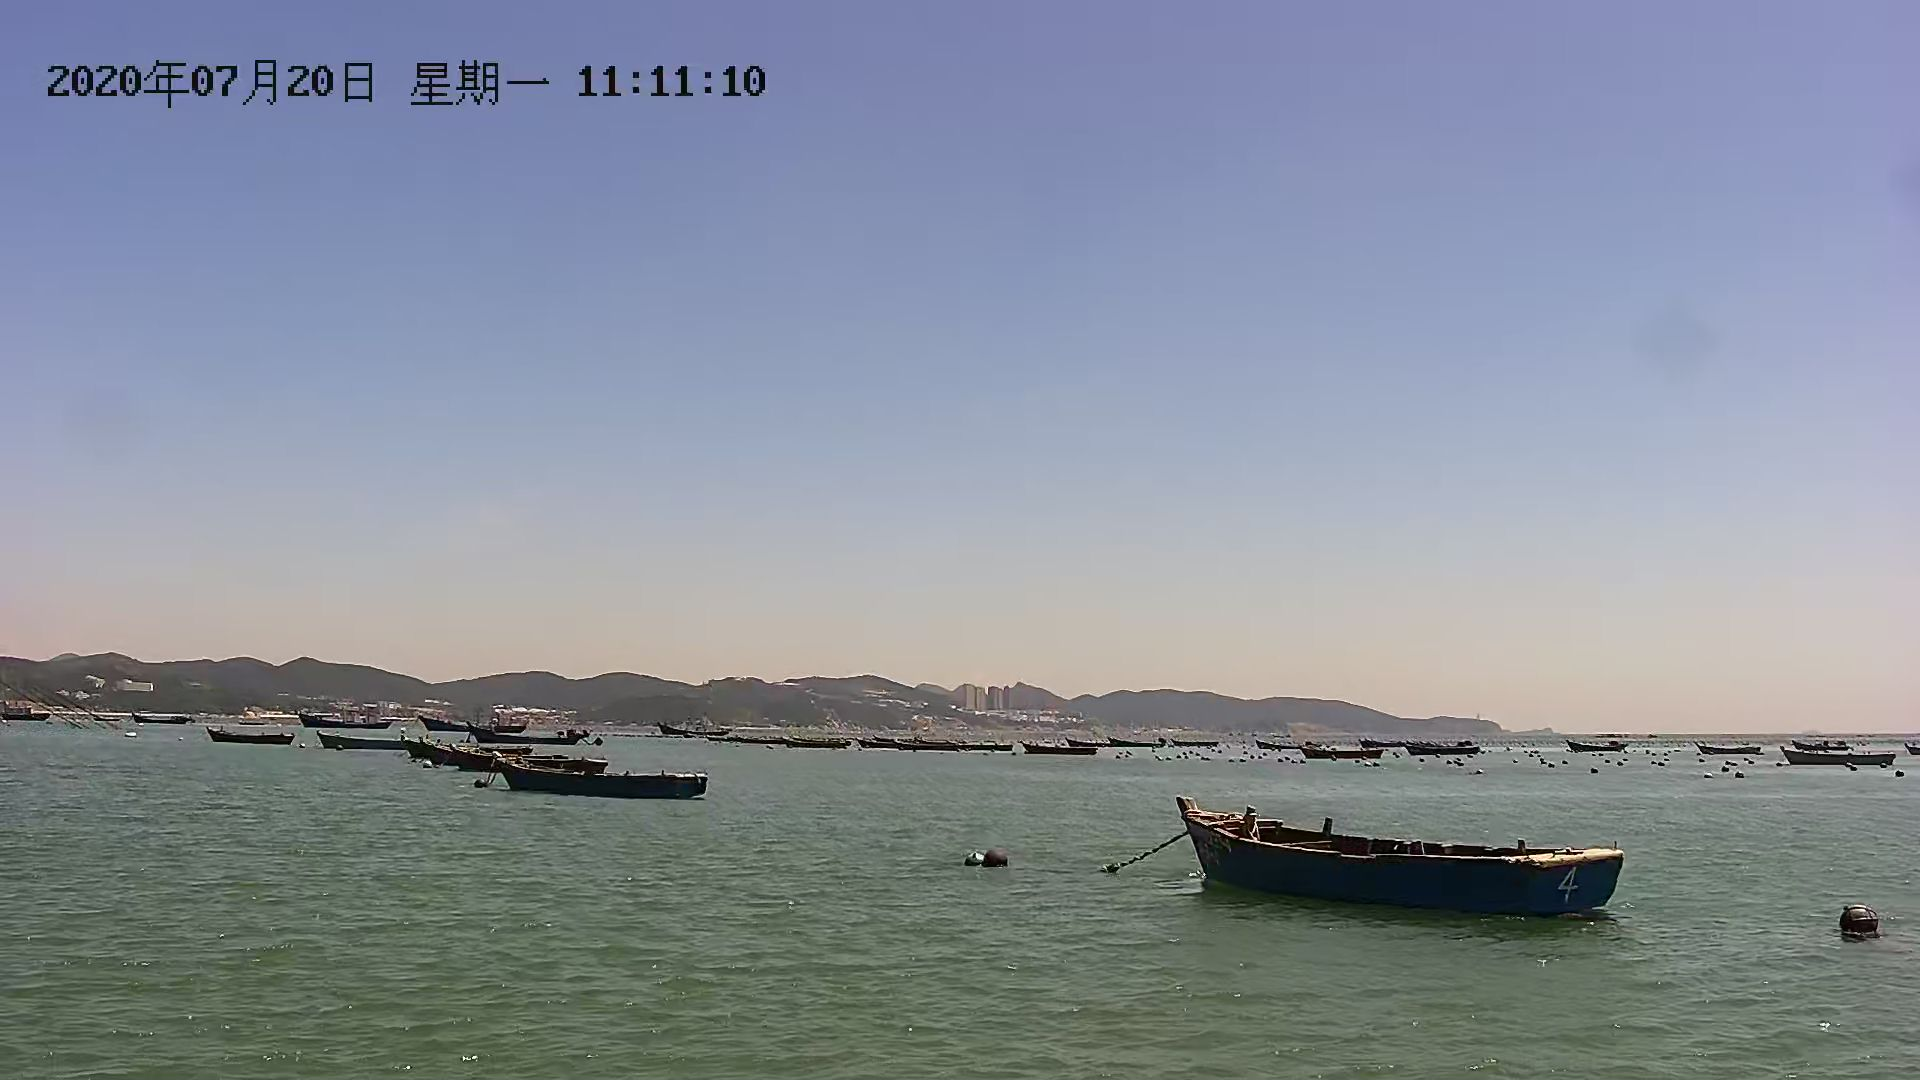ball: (1836, 905, 1891, 942), (967, 847, 1011, 876)
boat: (1174, 794, 1626, 916), (493, 754, 709, 806), (1780, 736, 1908, 771), (423, 735, 525, 765), (200, 724, 303, 749), (326, 735, 425, 746)
